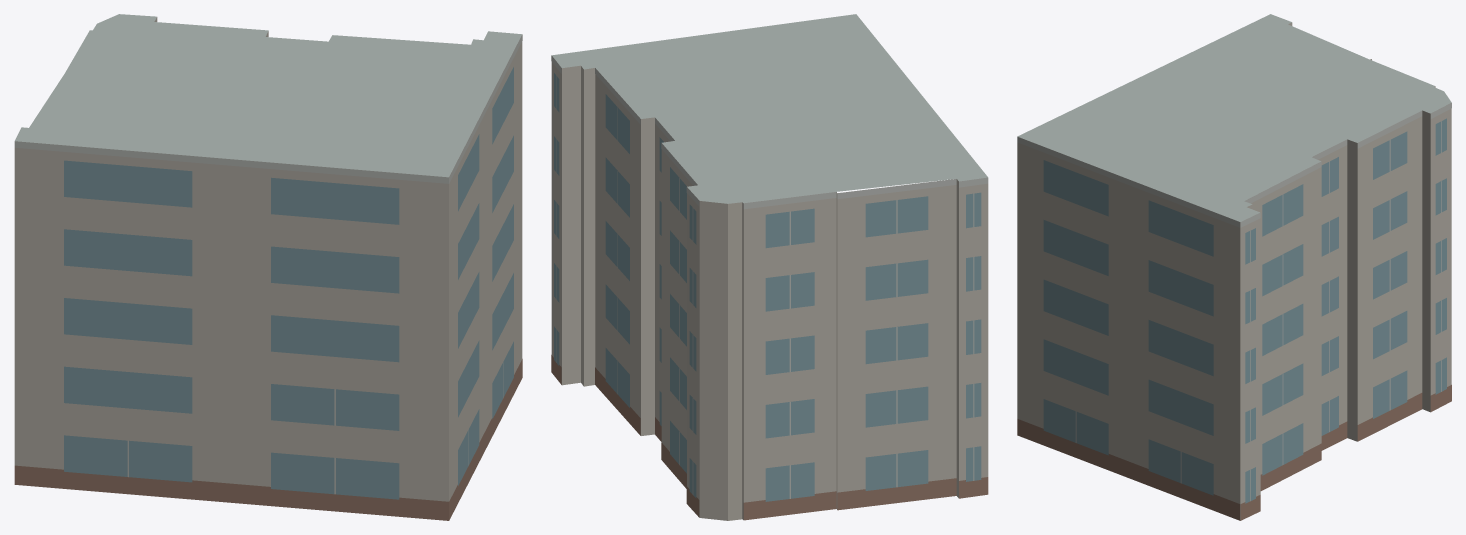
The model's file is survey-upis-32665619.glb.
The picture shows the model from 3 angles, left to right: view 1: azimuth 30°, elevation 25°; view 2: azimuth 150°, elevation 25°; view 3: azimuth 270°, elevation 25°; orthographic projection. The views are drawn at different scales.
Visible parts, largest first — view 1: survey-upis-32665619.tmp; view 2: survey-upis-32665619.tmp; view 3: survey-upis-32665619.tmp.
Part boxes in pixels (bbox=[...]): survey-upis-32665619.tmp: bbox=[14, 14, 522, 520]; survey-upis-32665619.tmp: bbox=[551, 14, 988, 520]; survey-upis-32665619.tmp: bbox=[1017, 14, 1451, 520].
Bounding box in the file's own units: 18.99 × 12.7 × 16.75.
